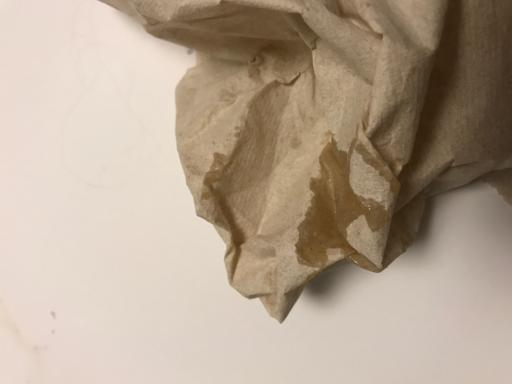trash: (159, 1, 511, 327)
